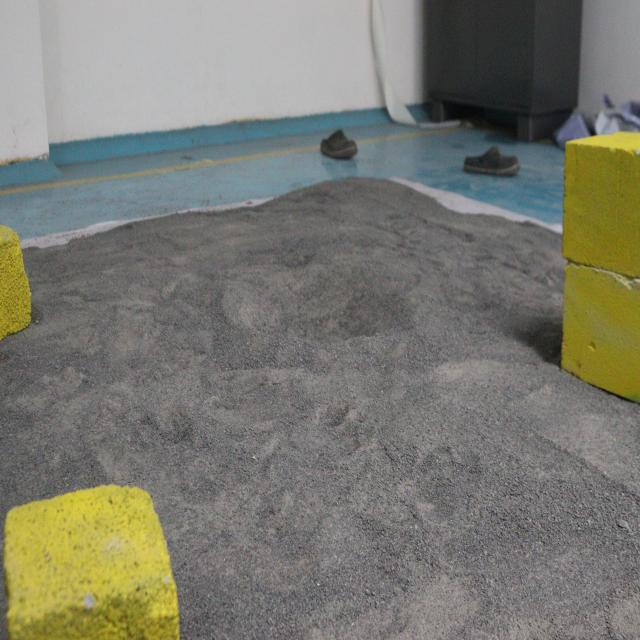crater: (223, 242, 423, 363)
